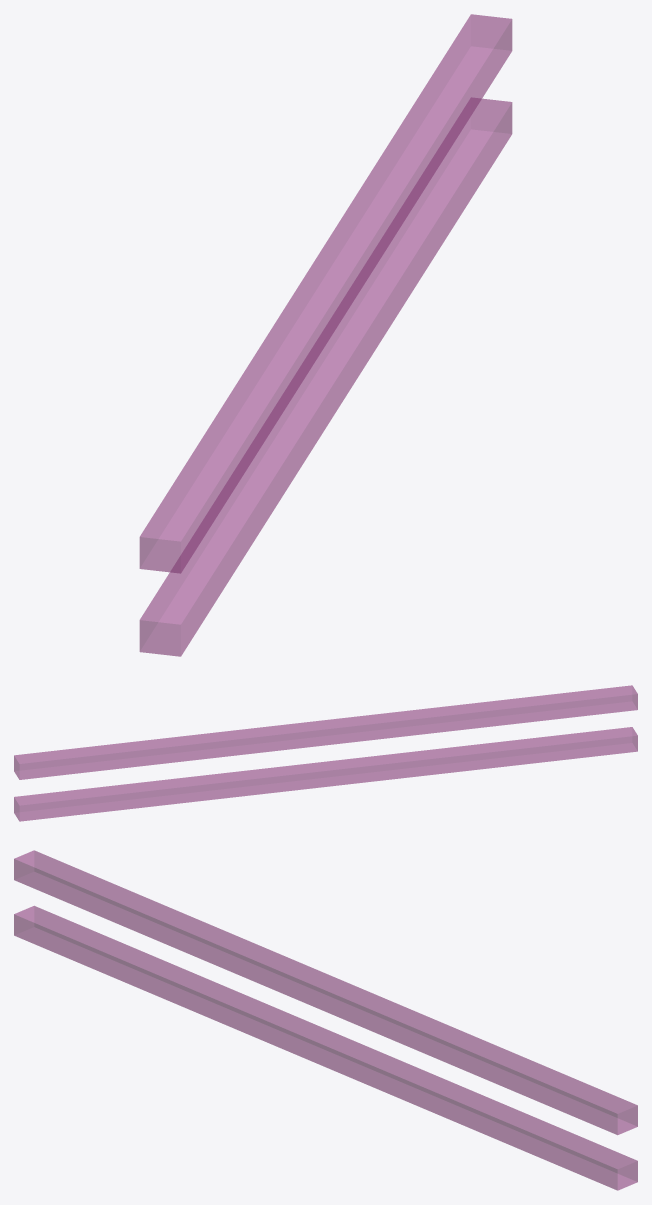
Rendered from SM_Bld_Railing_Rail_45_01_Collision.fbx.
3 views of the same model, one above another, from view 1: azimuth 30°, elevation 25°; view 2: azimuth 150°, elevation 25°; view 3: azimuth 270°, elevation 25° (orthographic). The views are drawn at different scales.
Visible parts, largest first — view 1: SM_Bld_Railing_Rail_45_01_Collision; view 2: SM_Bld_Railing_Rail_45_01_Collision; view 3: SM_Bld_Railing_Rail_45_01_Collision.
Boxes of the visible parts, left/top/right/bottom form: SM_Bld_Railing_Rail_45_01_Collision: left=139, top=14, right=512, bottom=656; SM_Bld_Railing_Rail_45_01_Collision: left=14, top=685, right=637, bottom=821; SM_Bld_Railing_Rail_45_01_Collision: left=14, top=850, right=637, bottom=1190.
Bounding box in the file's own units: 261 × 35.42 × 261.
